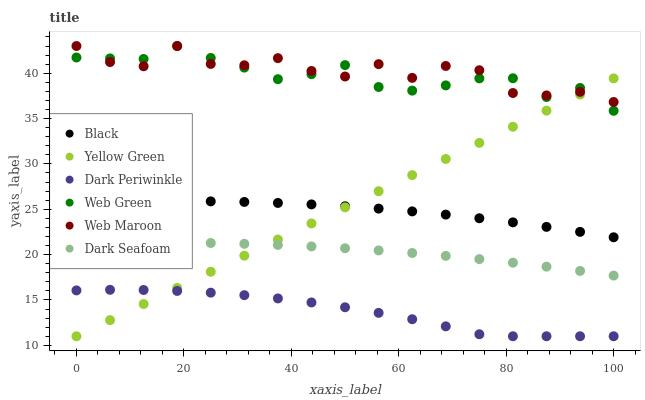axis: (57, 346, 645, 357), (41, 32, 54, 350)
legend: (50, 112, 194, 269)
point: (340, 199, 351, 211), (104, 284, 117, 294), (474, 64, 486, 74), (377, 82, 386, 95), (104, 317, 118, 325), (609, 331, 619, 342), (204, 54, 216, 63), (139, 59, 149, 69), (239, 60, 249, 70), (474, 137, 484, 147), (206, 286, 216, 296), (139, 284, 149, 294), (372, 309, 383, 318), (610, 233, 619, 244), (342, 69, 351, 80), (611, 269, 619, 281), (309, 67, 318, 77), (374, 59, 384, 68), (308, 298, 318, 307), (441, 251, 450, 261), (274, 198, 283, 208), (372, 187, 383, 195), (540, 333, 552, 340), (543, 262, 552, 271), (206, 197, 215, 206), (72, 53, 82, 61), (543, 91, 552, 99), (308, 241, 317, 249), (477, 213, 486, 221), (274, 241, 283, 249), (371, 248, 382, 254), (411, 170, 419, 178), (274, 233, 282, 241), (442, 82, 451, 89), (206, 269, 218, 274), (411, 209, 418, 217), (442, 323, 451, 329), (239, 241, 248, 246)
